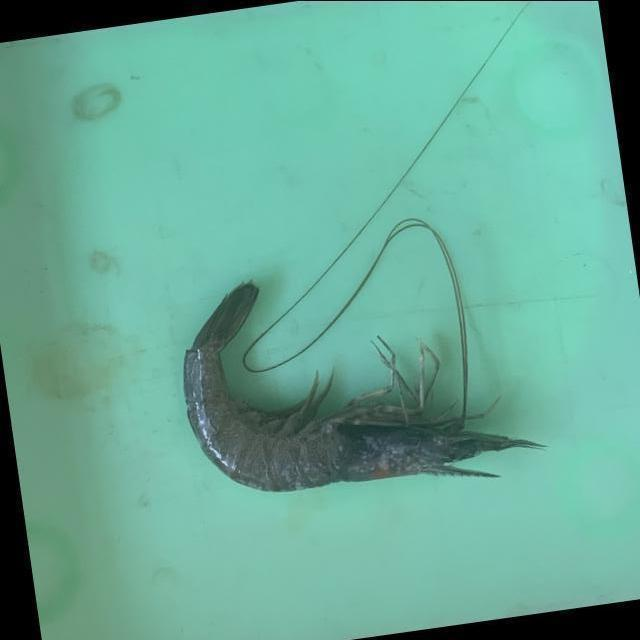shrimp: (184, 282, 540, 491)
